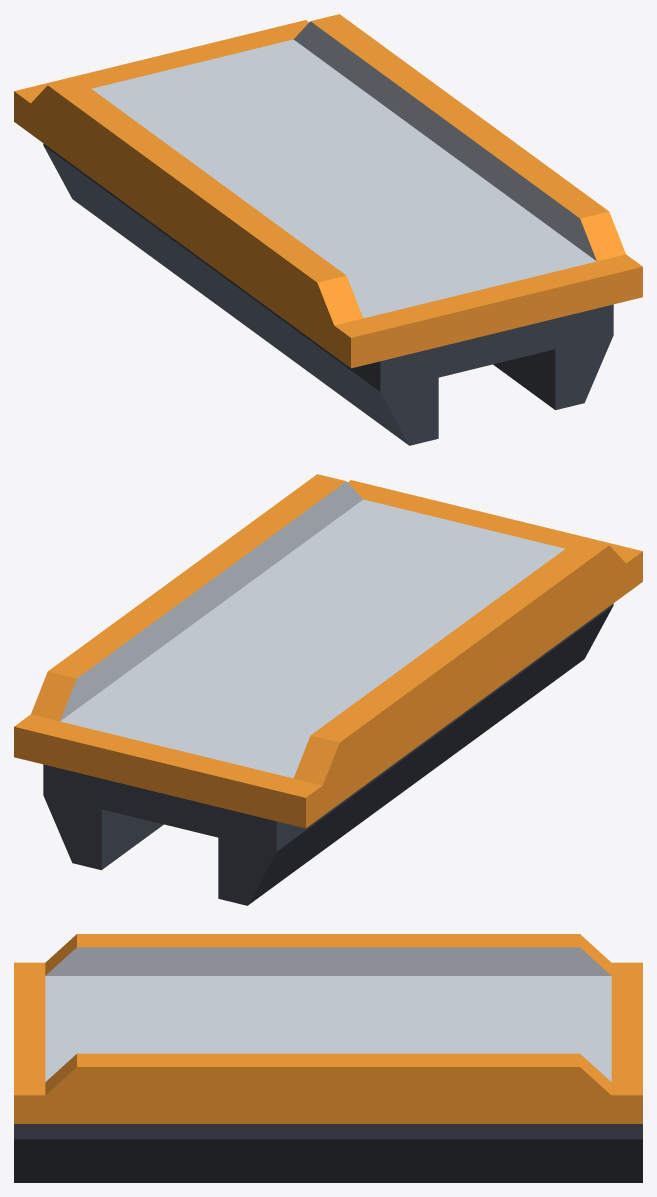
The model's file is monorail_trainFlat.fbx.
3 views of the same model, one above another, from view 1: azimuth 30°, elevation 25°; view 2: azimuth 150°, elevation 25°; view 3: azimuth 270°, elevation 25° (orthographic). The views are drawn at different scales.
Visible parts, largest first — view 1: monorail_trainFlat; view 2: monorail_trainFlat; view 3: monorail_trainFlat.
Part boxes in pixels (box(x1,y1,x2,y2)): monorail_trainFlat: box(14, 14, 642, 445); monorail_trainFlat: box(14, 474, 642, 905); monorail_trainFlat: box(14, 934, 642, 1182).
Bounding box in the file's own units: 5 × 2.5 × 10.
